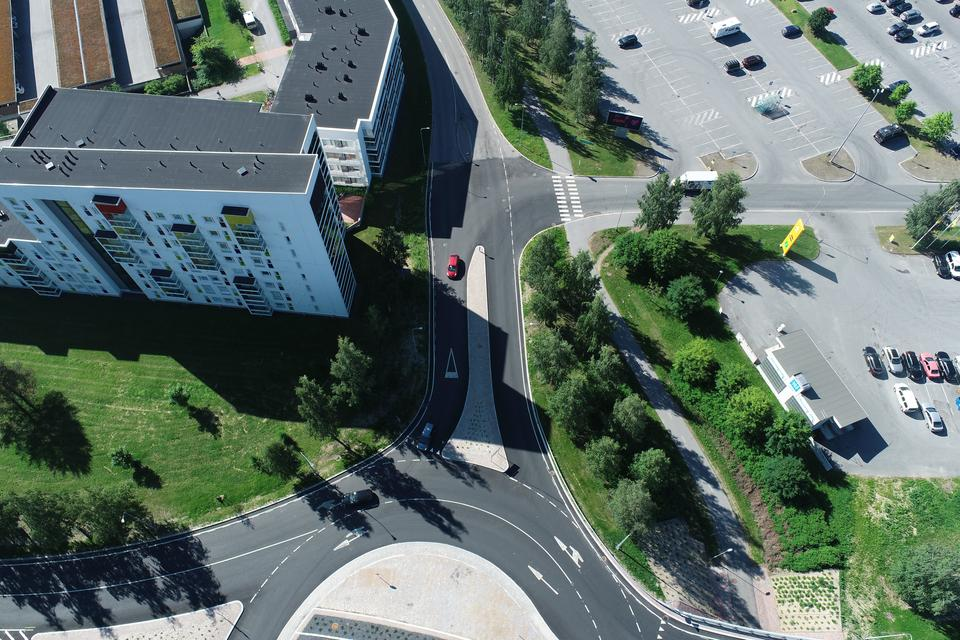intersection: (405, 154, 613, 262)
roundabout: (222, 448, 679, 640)
